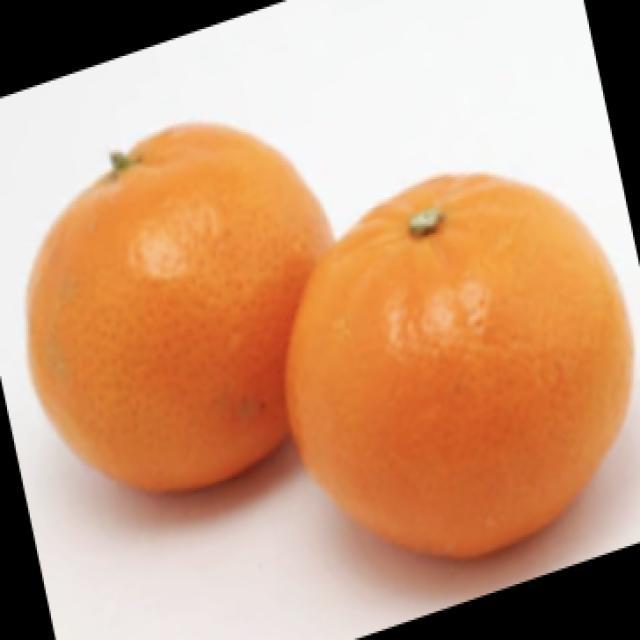matang: (286, 174, 632, 558), (27, 124, 332, 491)
